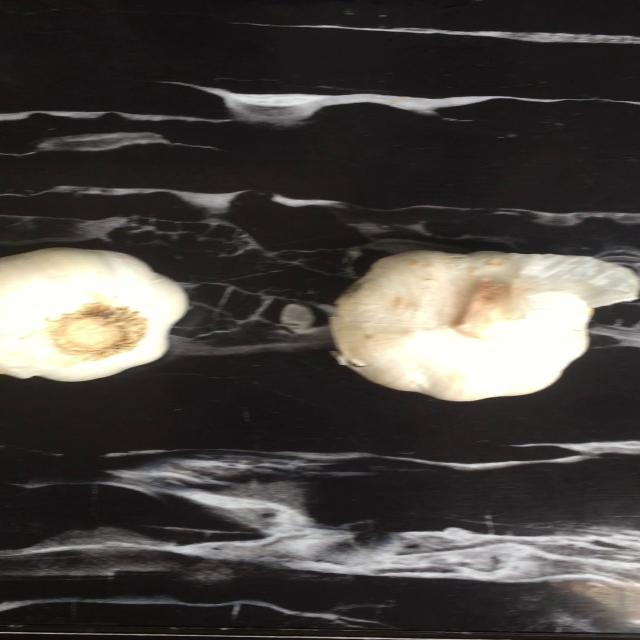garlic: (318, 244, 640, 406), (0, 232, 192, 400)
